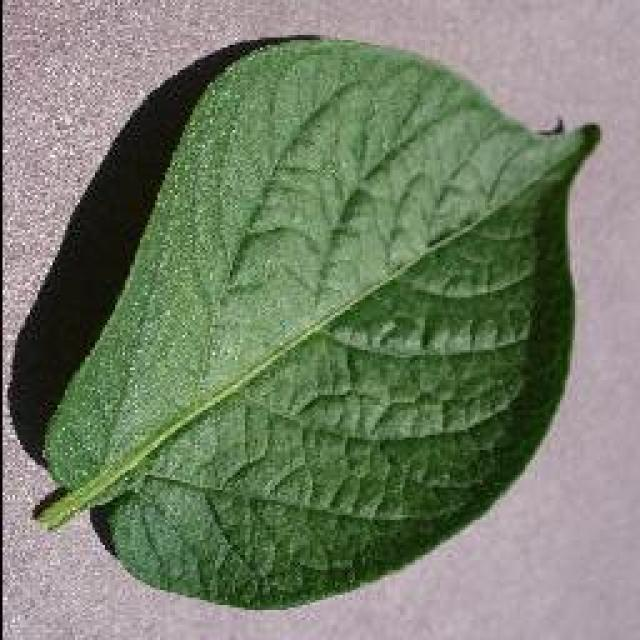Potato___healthy: (36, 38, 600, 611)
